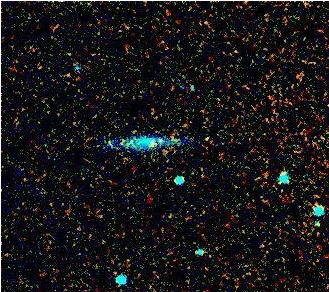star: (141, 125, 171, 155)
